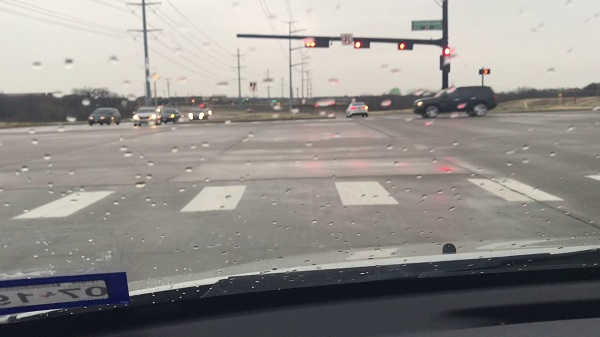car: (413, 87, 497, 120), (88, 108, 121, 124), (133, 107, 158, 125), (159, 107, 179, 121), (346, 102, 369, 114), (187, 110, 203, 119)
